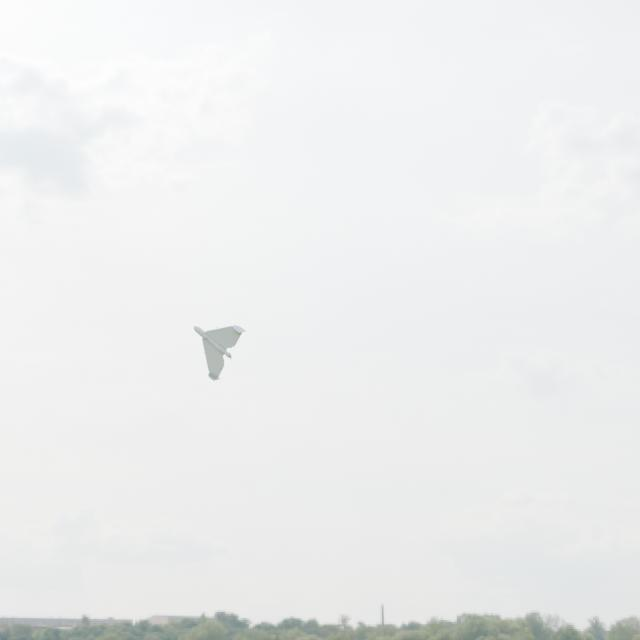Airaplan: (193, 325, 246, 381)
